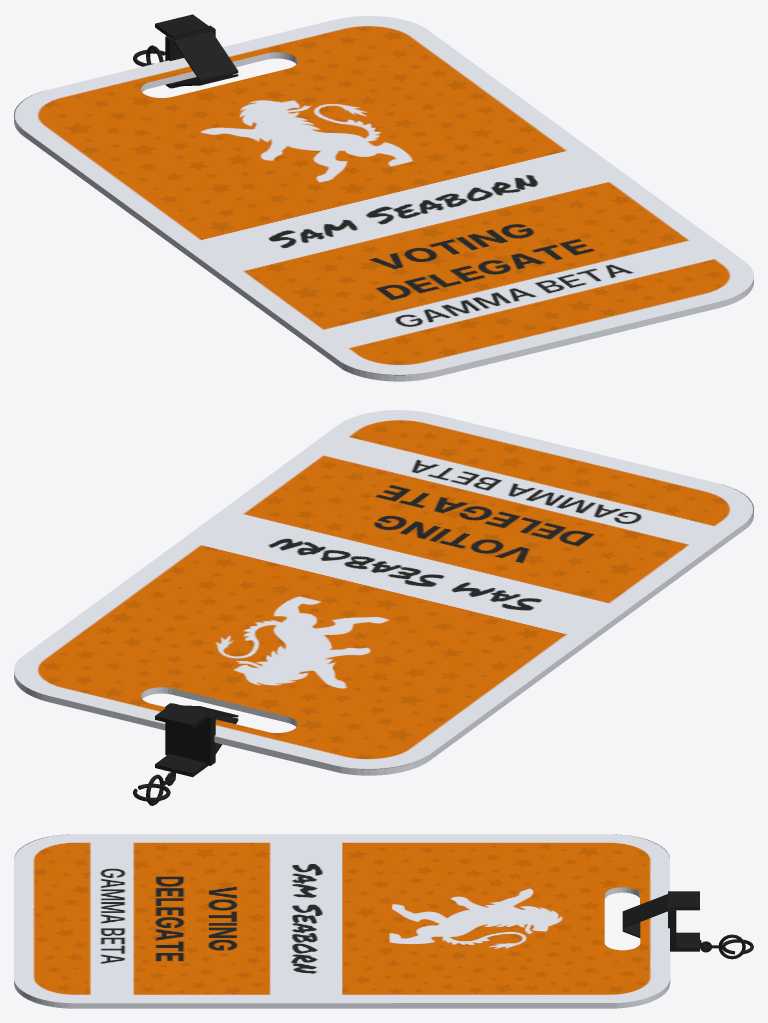
Rendered from card2-original.glb.
3 views of the same model, one above another, from view 1: azimuth 30°, elevation 25°; view 2: azimuth 150°, elevation 25°; view 3: azimuth 270°, elevation 25° (orthographic). The views are drawn at different scales.
Parts seen in each view (by area): view 1: card, clip; view 2: card, clip; view 3: card, clip.
Part boxes in pixels (x1,y1,x2,y2): card: [14, 16, 753, 381]; clip: [146, 14, 238, 88]; card: [14, 410, 753, 775]; clip: [146, 703, 238, 805]; card: [14, 834, 670, 1008]; clip: [622, 891, 745, 959].
Bounding box in the file's own units: 3.35 × 0.555 × 6.2.
4 materials, 2 textured.
